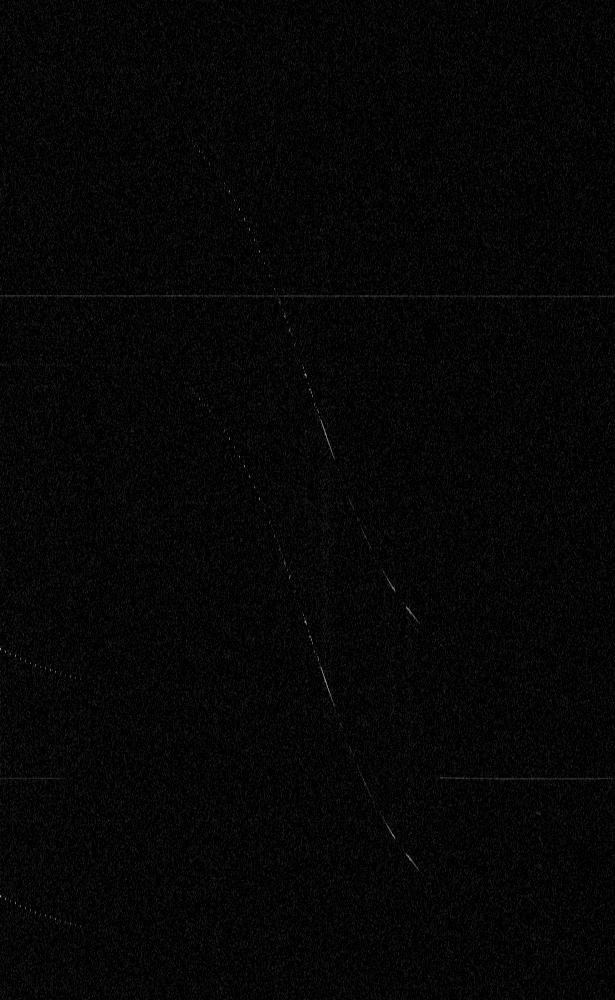signal: (0, 0, 614, 999)
